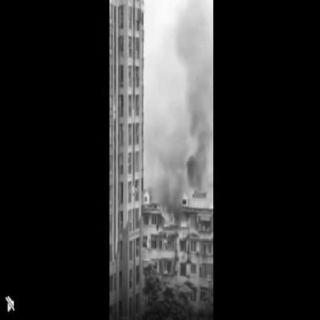Smoke: (149, 9, 209, 193)
